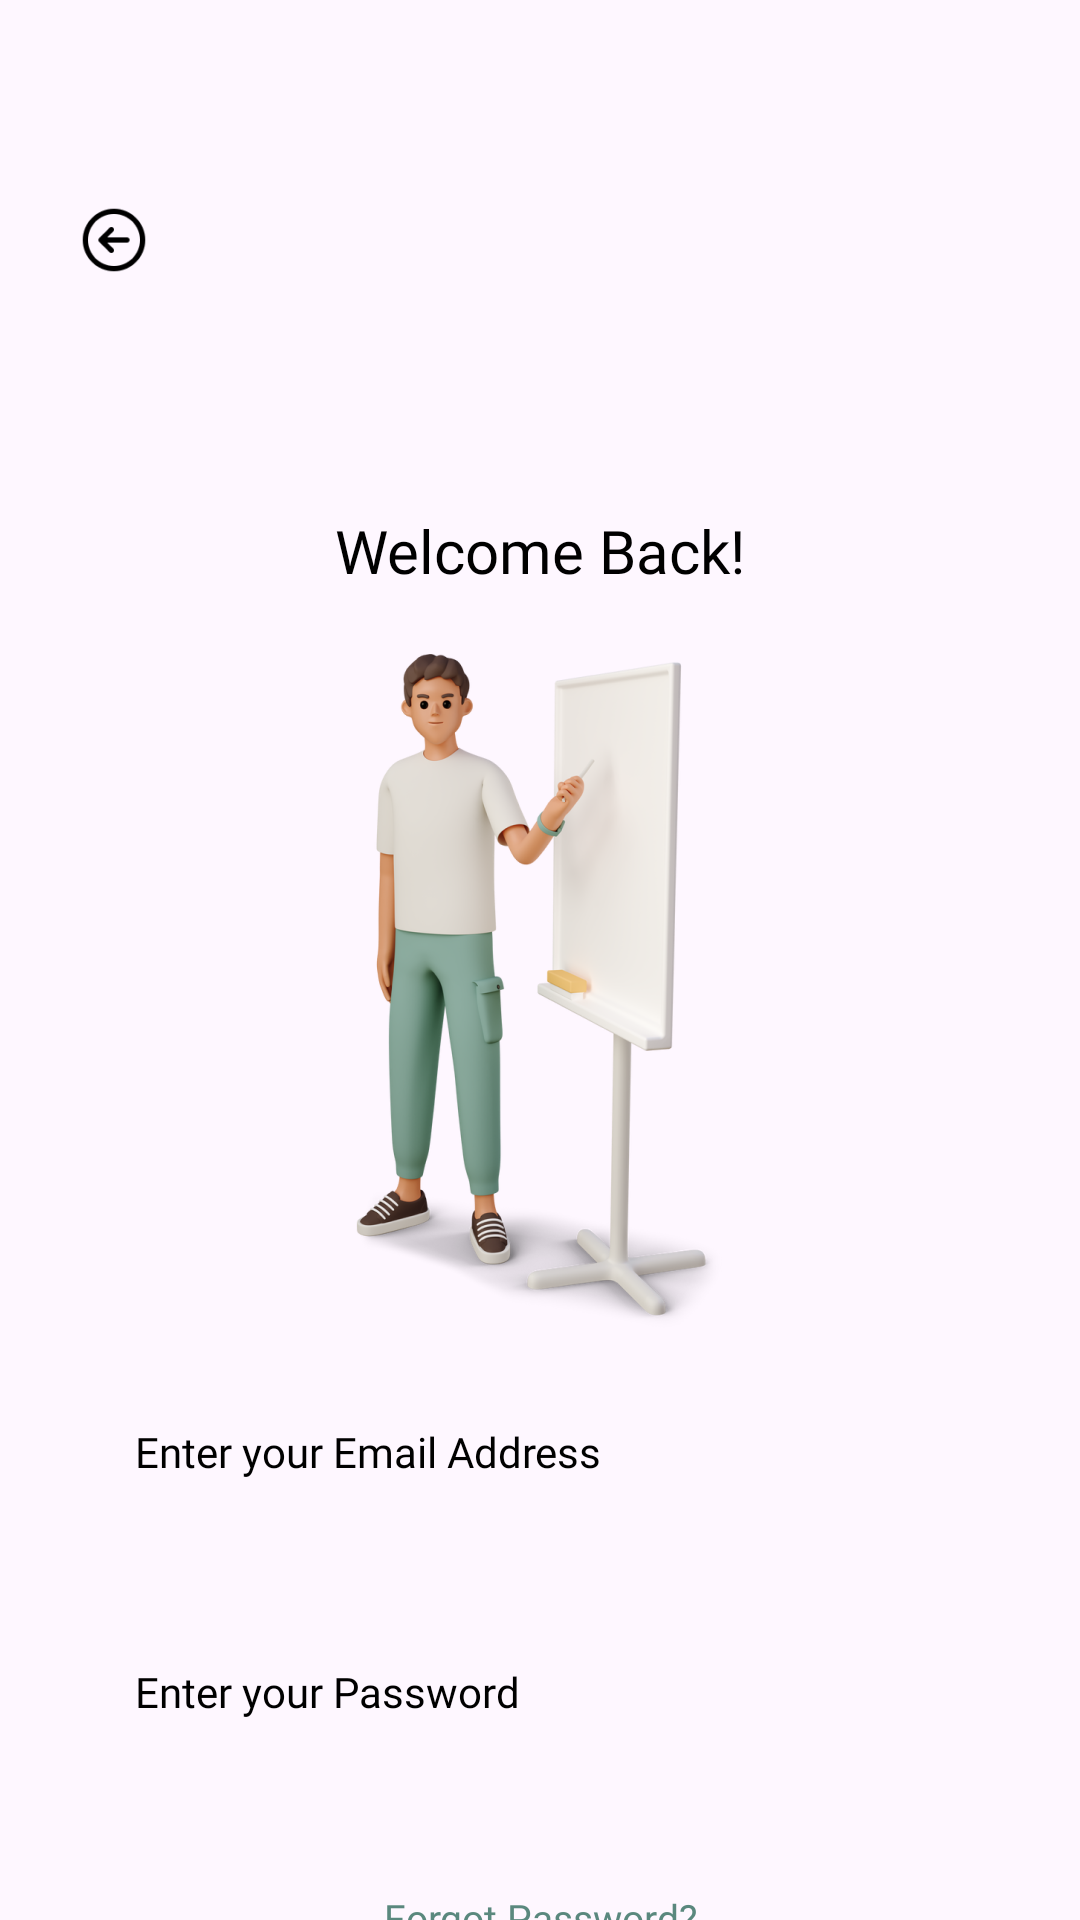

Where icons sit on this 1080x1920 app screen, as (x1, y1, x2, y2):
back: (82, 208, 146, 272)
